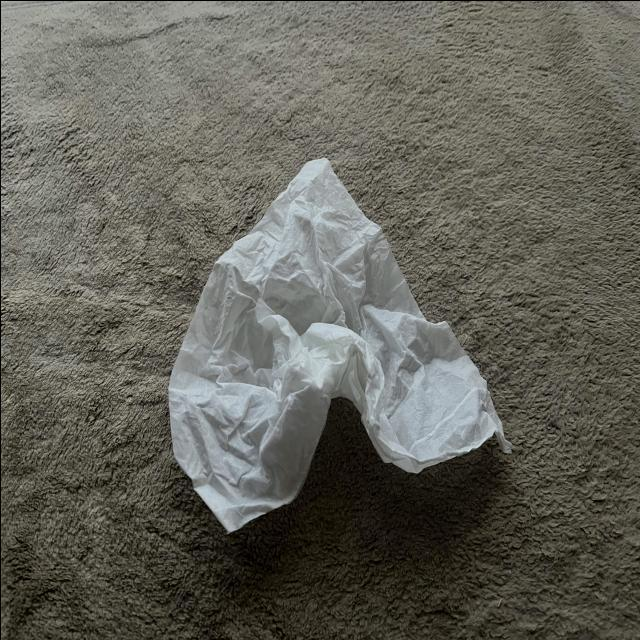Paper: (151, 154, 516, 512)
